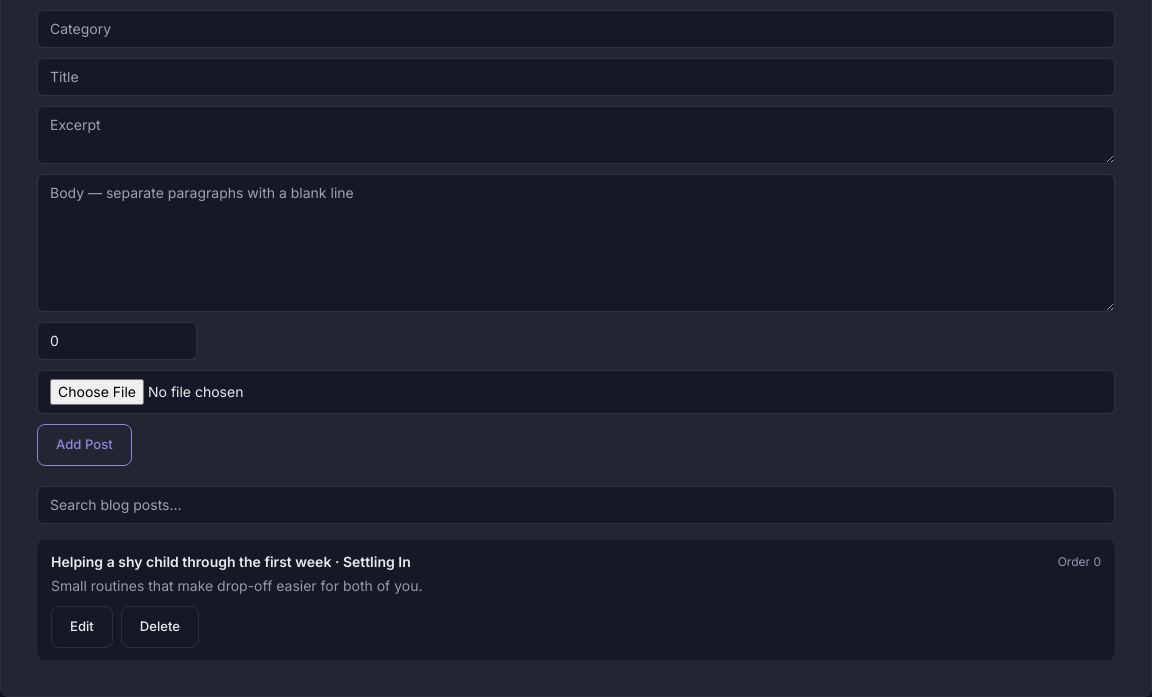
Test case: AdminBlogPanel › deletes a post via the delete button
The width and height of the screenshot is (1152, 697).
(page scrolled)
Expected: the text "Helping a shy child through the first week · Settling In" is shown, top-left (51, 552), bottom-right (411, 572)
Click the button "Delete" at x=160, y=627, box top-left (121, 606), bottom-right (199, 648)
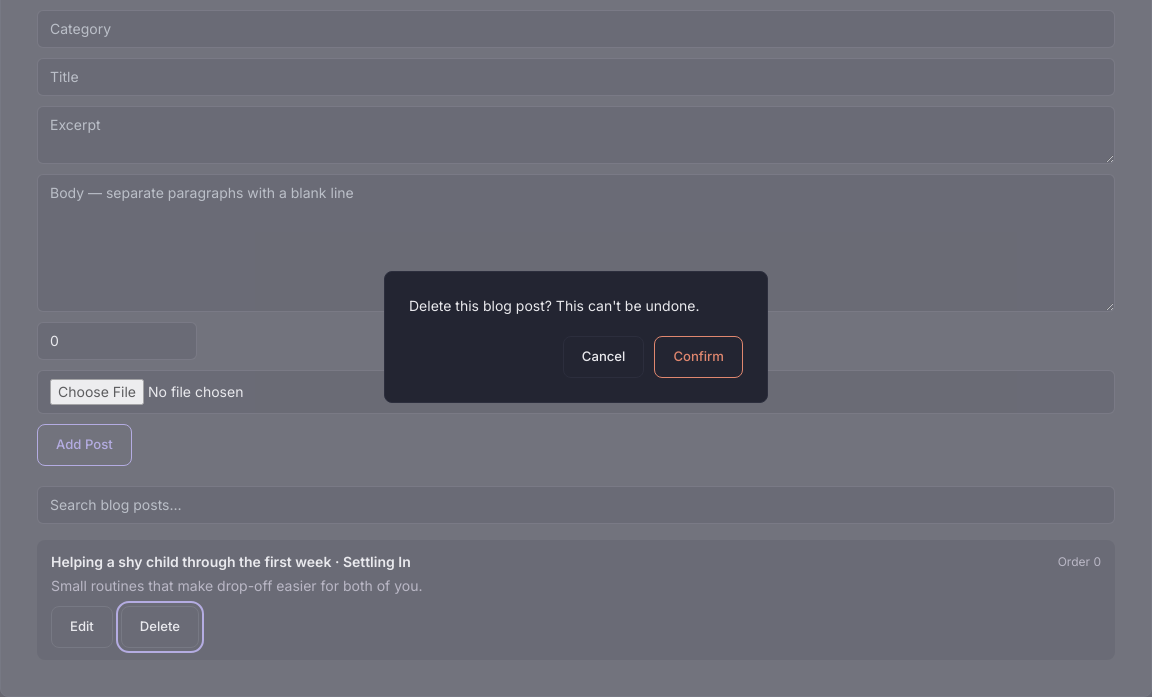
Click the button "Confirm" at x=699, y=357, box top-left (654, 336), bottom-right (743, 378)
(page scrolled)
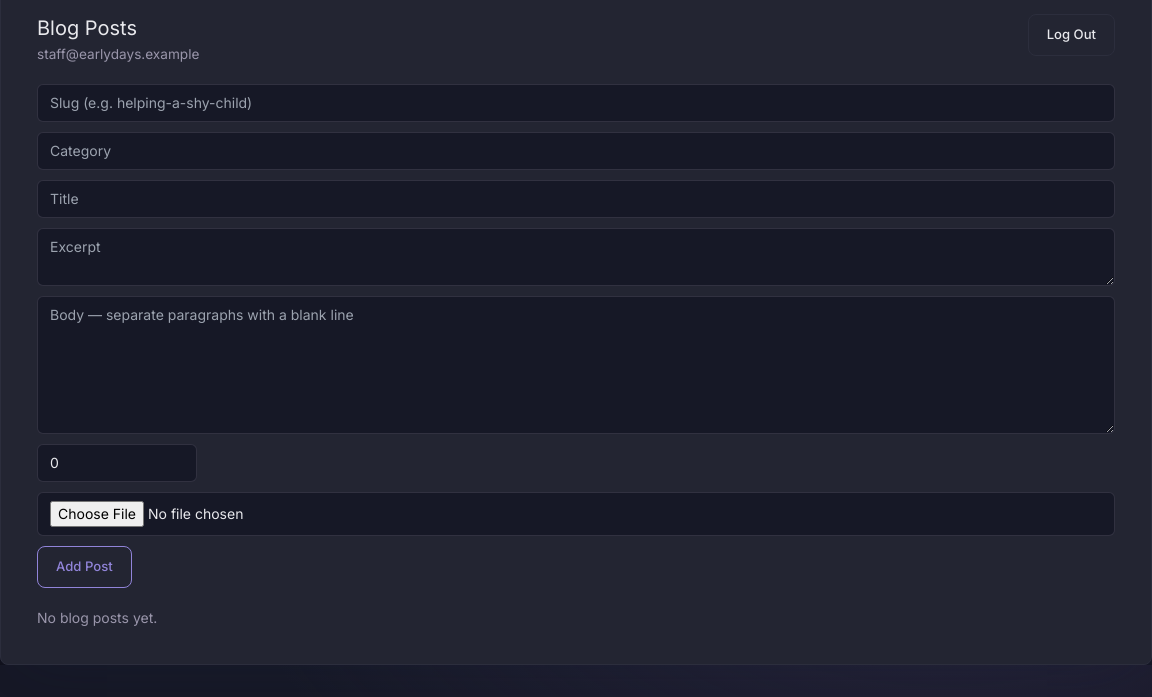
Expected: the text "Helping a shy child through the first week · Settling In" is gone
